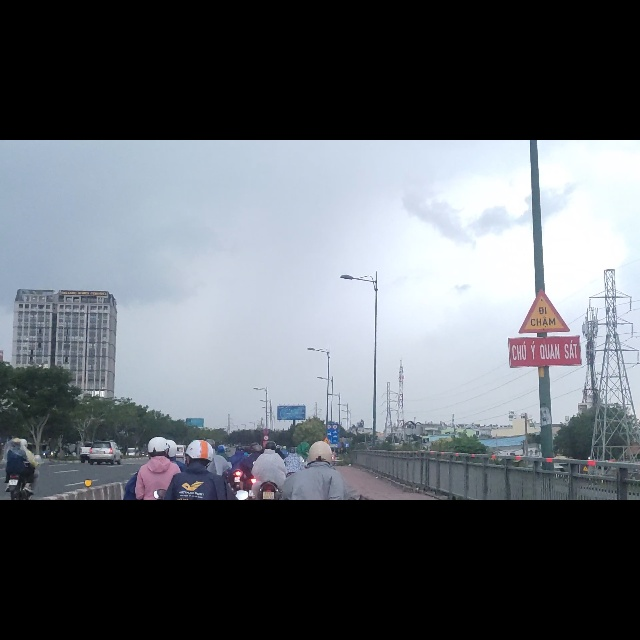bien_nguy_hiem: (516, 264, 570, 346)
